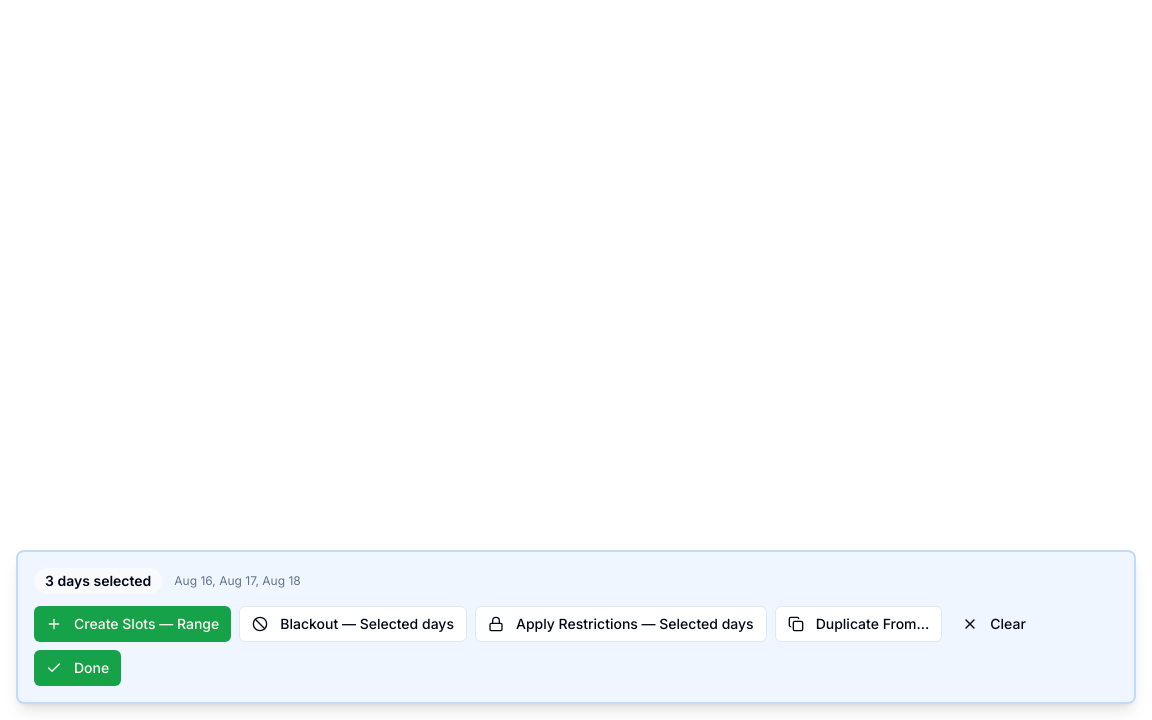
it: Admin UI M5 Copy & Safeguards Tests › Scoped Confirmations › BulkBar shows count-specific confirmation text
This screenshot has width=1152, height=720.
Note: Click blackout button to open dialog
Click the button with test id "button-bulk-blackout": (353, 624) x1=239 y1=606 x2=467 y2=642
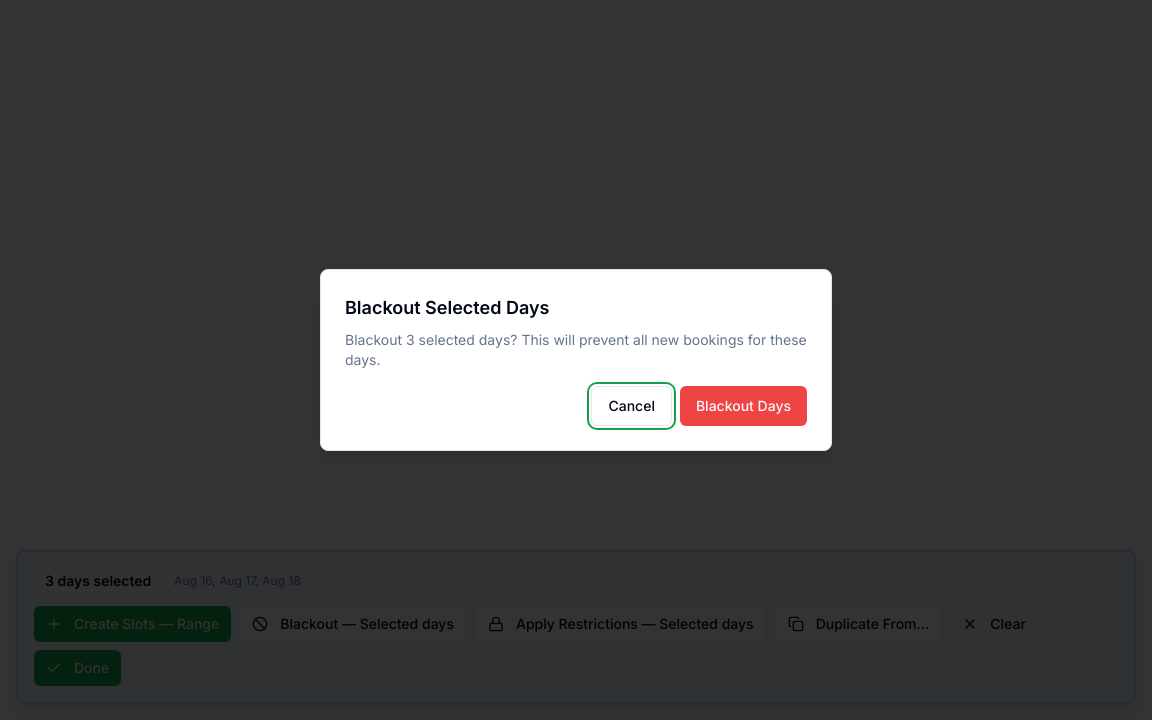
expect the text with test id "bulk-blackout-confirmation-text" shows "3 selected days": met, box x1=345 y1=330 x2=807 y2=370
